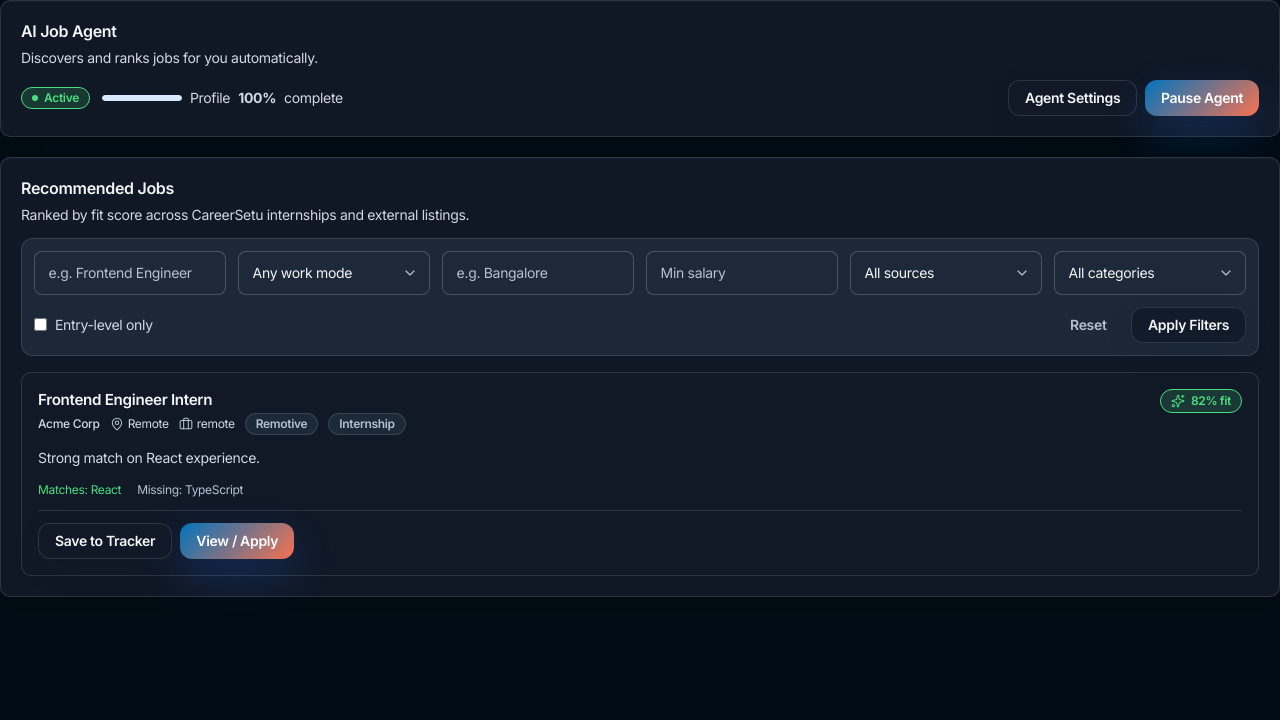
Test case: JobAgentDashboardPage › shows an error toast when saving to the tracker fails
Check: the text "Frontend Engineer Intern" is shown, box x1=38 y1=390 x2=212 y2=409
What coordinates should you click on to do the following:
click the button "Save to Tracker"
I would click on:
 (105, 541)
Its box is x1=38 y1=523 x2=172 y2=559.
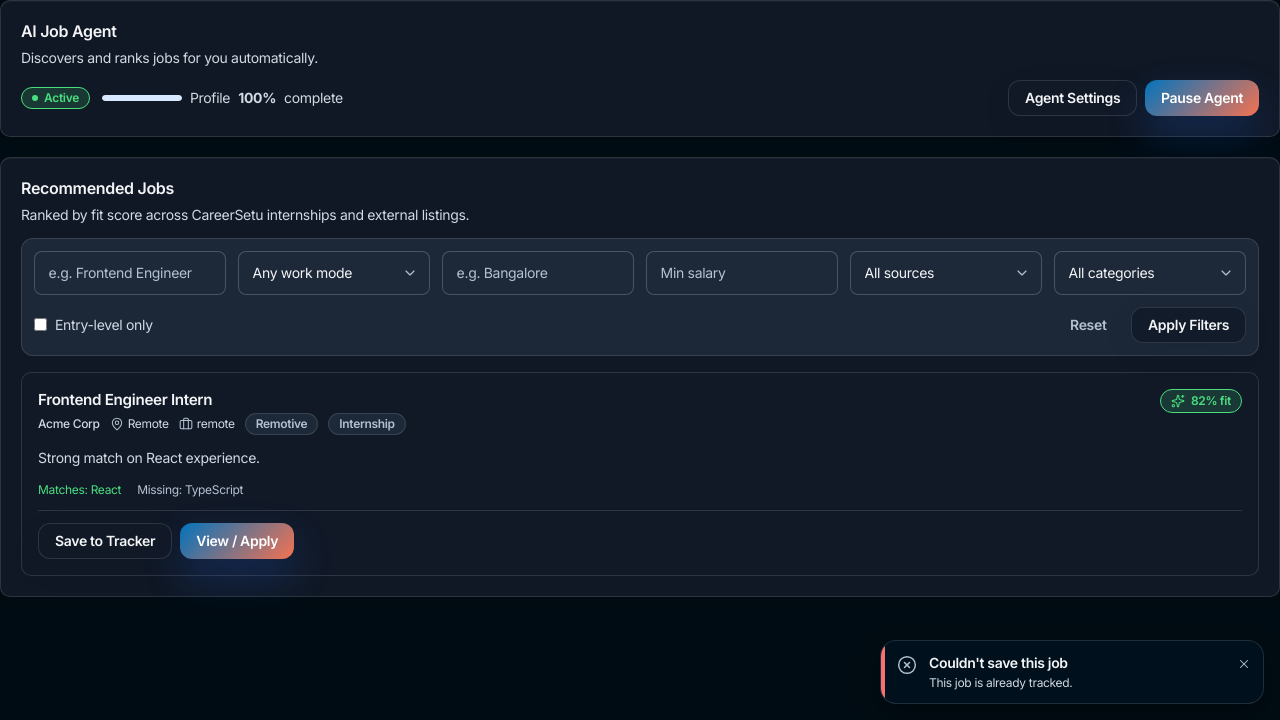
Check: the text "Couldn't save this job" is shown, box x1=929 y1=653 x2=1072 y2=673
